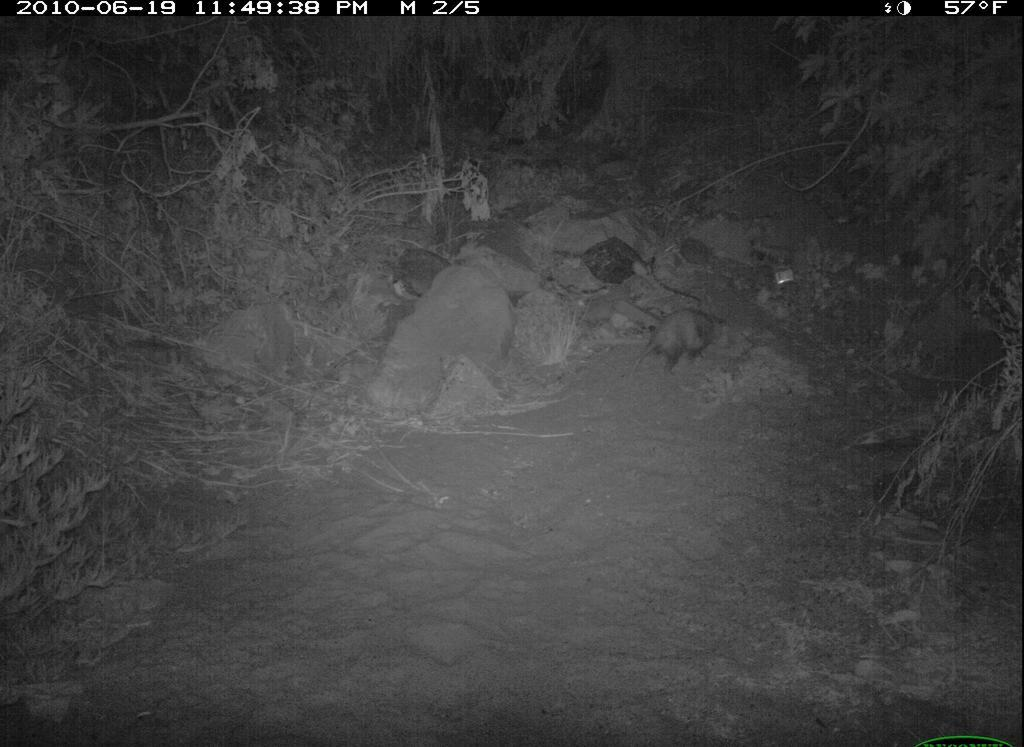opossum: (615, 303, 739, 379)
